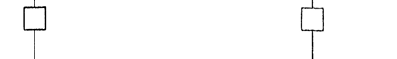Cable Termination Box: (11, 0, 65, 43), (294, 2, 332, 38)
